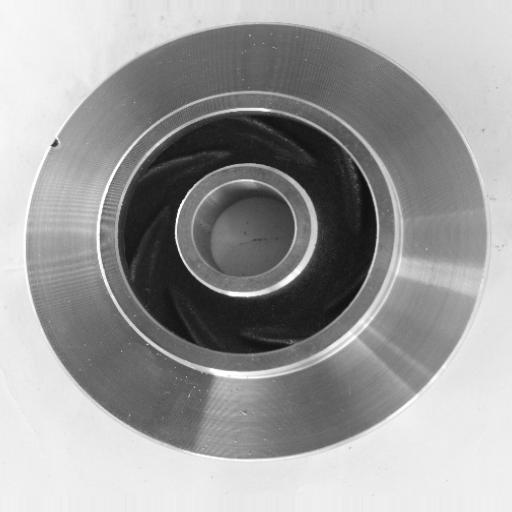casting_with_burr: (23, 22, 491, 464)
crack: (43, 131, 69, 159)
